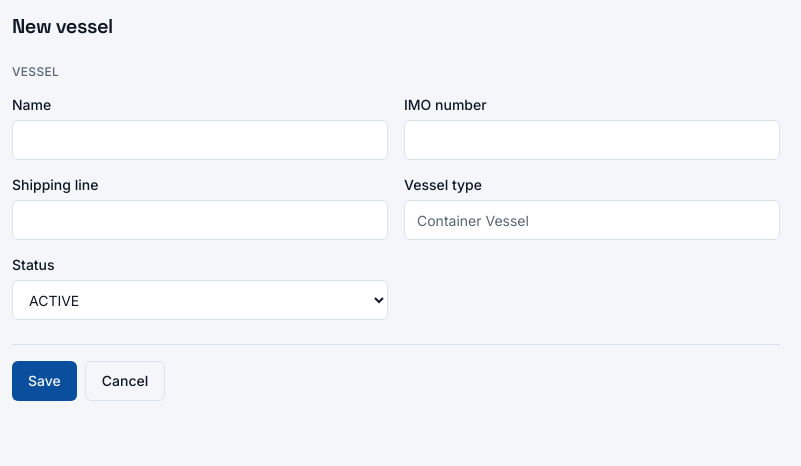
Scenario: VesselFormPage (create) › rejects a non-empty, badly-formed IMO instead of submitting
Type "MV Bad IMO" into the field labelled "Name". click: [200, 140]
box: [12,120,388,160]
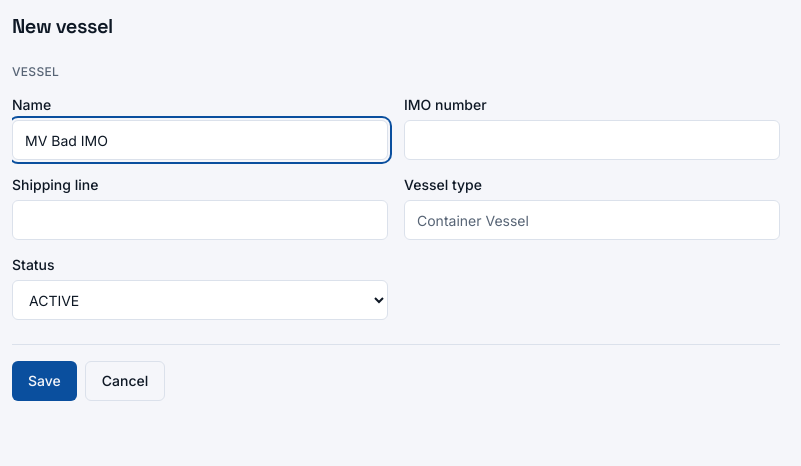
Type "123" into the field labelled "IMO number". click: [592, 140]
box: [404,120,780,160]
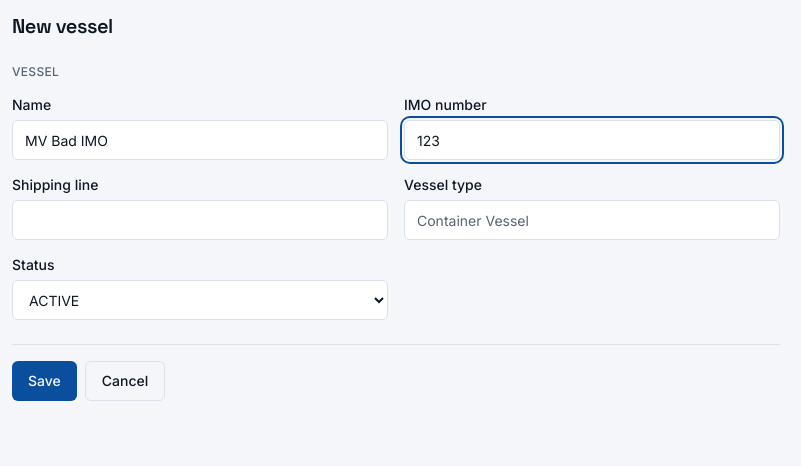
Click the button "Save". click: [44, 381]
box: [12,361,77,401]
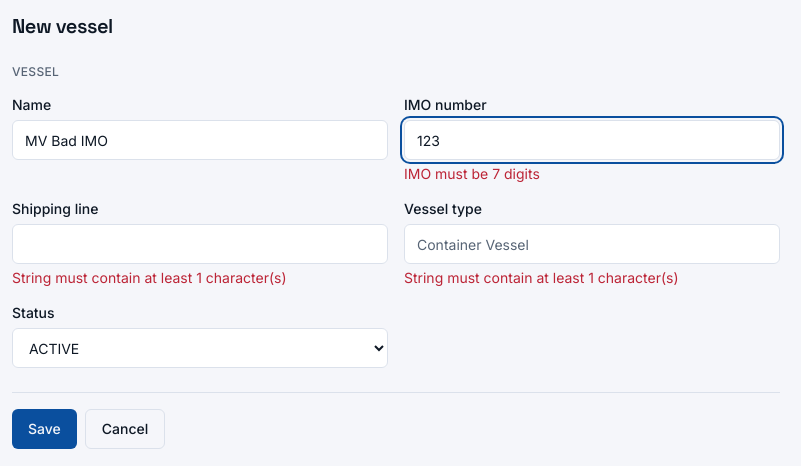
Check: the text "IMO must be 7 digits" is shown, box [404,165,540,182]
